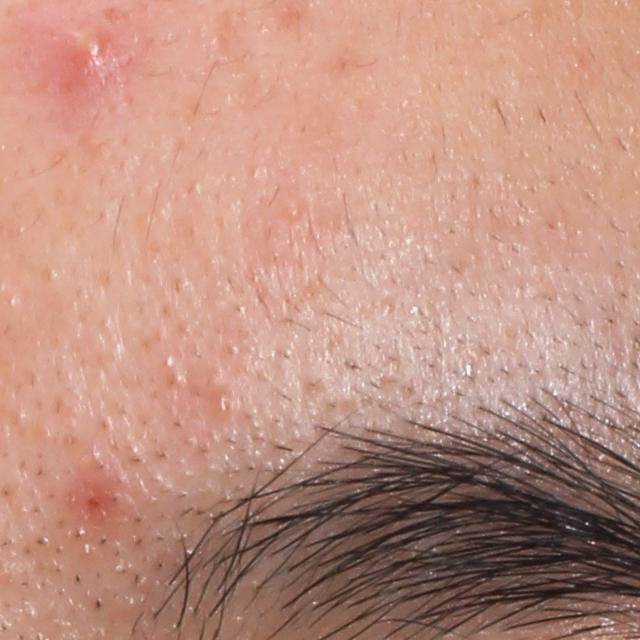comedo: (211, 391, 231, 420), (284, 197, 305, 220)
